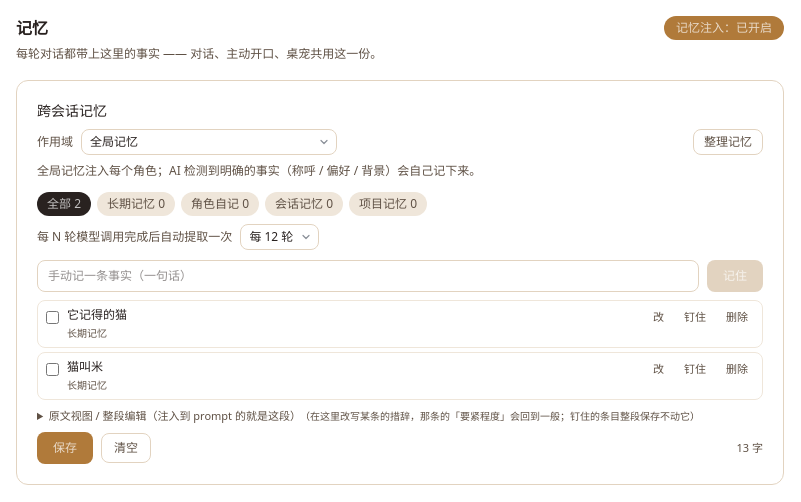
Test case: 记忆卡「整理记忆」（一次模型调用，只写标记） › 作用域切到某角色时，整理的是那个桶（不是全局那份）
Select "角色1" in the dropdown next to "作用域" at (209, 142), box x1=81 y1=128 x2=337 y2=154
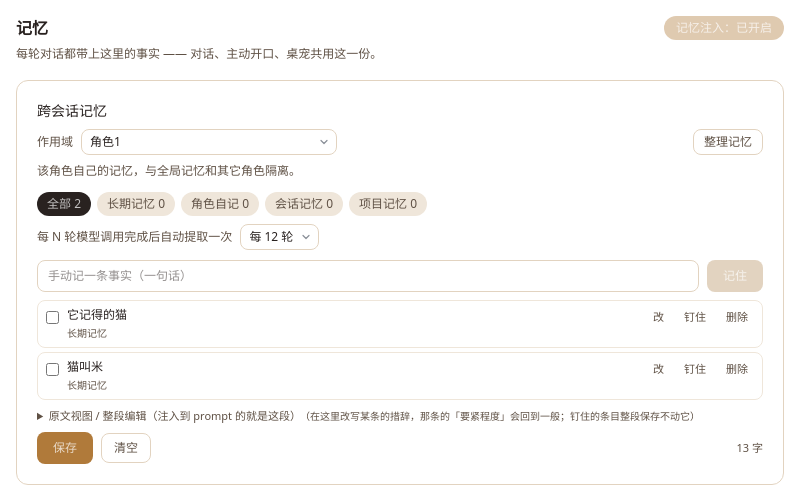
Click the button "整理记忆".
click(728, 142)  # box x1=693 y1=128 x2=763 y2=154
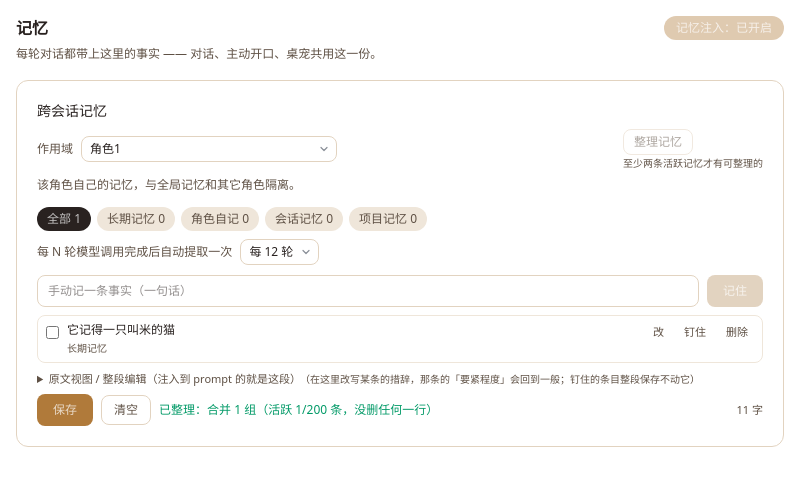
Expected: the text "已整理：合并 1 组（活跃 1/200 条，没删任何一行）" is shown, x1=159 y1=402 x2=438 y2=418
